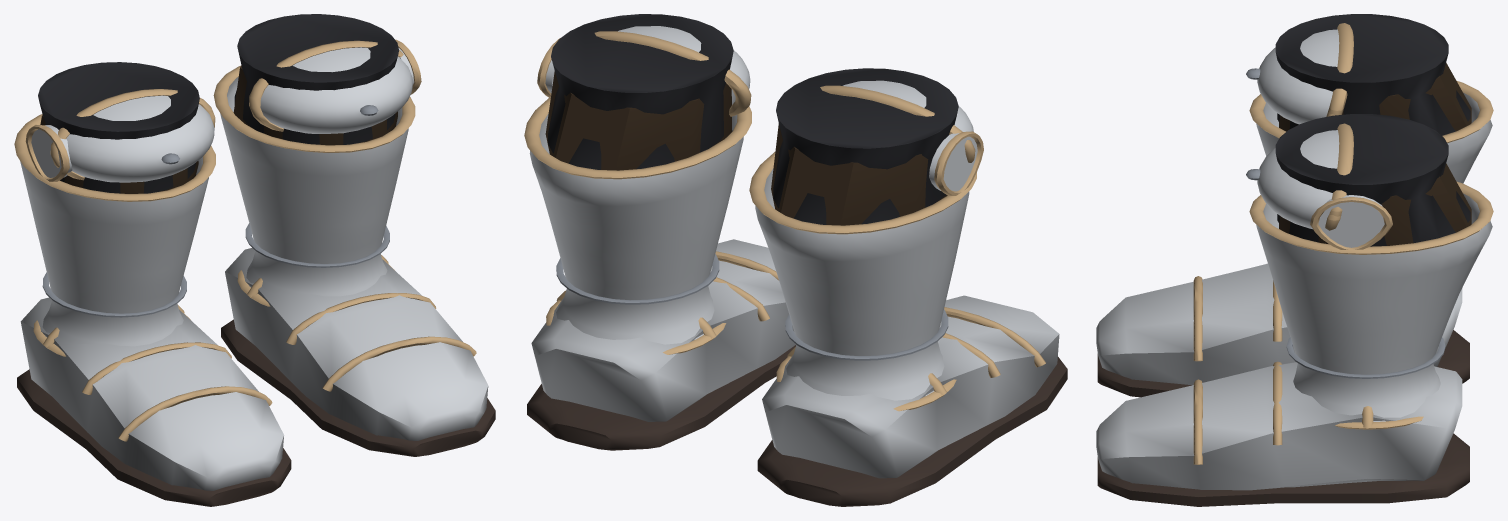
The model's file is f_ironplate_d.glb.
3 views of the same model, side by side, from view 1: azimuth 30°, elevation 25°; view 2: azimuth 150°, elevation 25°; view 3: azimuth 270°, elevation 25° (orthographic). The views are drawn at different scales.
Visible parts, largest first — view 1: LegR_Boot, LegL_Boot, LegR_BootFoot, LegL_BootFoot, LegL_Shin, LegR_Shin; view 2: LegR_Boot, LegL_Boot, LegR_BootFoot, LegL_BootFoot, LegL_Shin, LegR_Shin; view 3: LegL_Boot, LegL_BootFoot, LegR_Boot, LegR_BootFoot, LegL_Shin, LegR_Shin.
Boxes of the visible parts, bbox=[...] form: LegR_Boot: bbox=[14, 62, 215, 356]; LegL_Boot: bbox=[213, 14, 421, 306]; LegR_BootFoot: bbox=[17, 297, 291, 506]; LegL_BootFoot: bbox=[221, 248, 495, 456]; LegL_Shin: bbox=[233, 65, 397, 145]; LegR_Shin: bbox=[40, 115, 198, 193]; LegR_Boot: bbox=[749, 68, 983, 411]; LegL_Boot: bbox=[524, 14, 751, 354]; LegR_BootFoot: bbox=[757, 295, 1067, 506]; LegL_BootFoot: bbox=[527, 239, 796, 450]; LegL_Shin: bbox=[545, 71, 732, 170]; LegR_Shin: bbox=[771, 123, 947, 225]; LegL_Boot: bbox=[1246, 114, 1493, 429]; LegL_BootFoot: bbox=[1096, 361, 1469, 506]; LegR_Boot: bbox=[1246, 14, 1493, 183]; LegR_BootFoot: bbox=[1096, 263, 1469, 397]; LegL_Shin: bbox=[1279, 163, 1471, 245]; LegR_Shin: bbox=[1279, 62, 1471, 131].
Size of the model in its own units: 0.4588 by 0.3862 by 0.4162.
